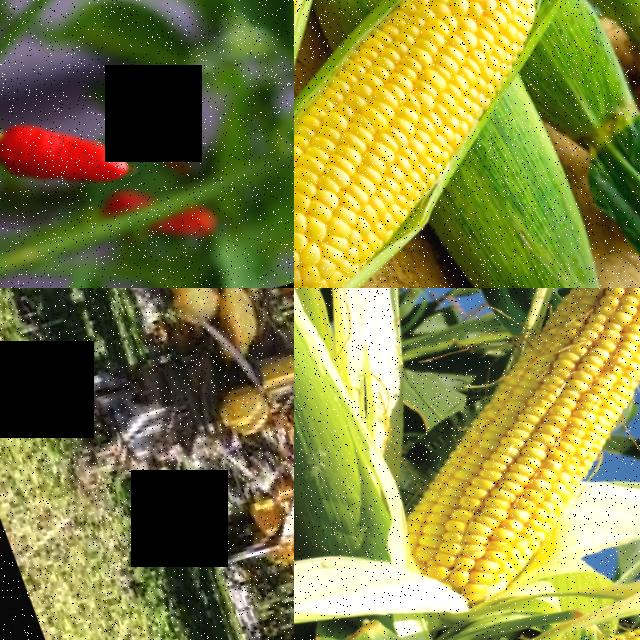chilli: (0, 91, 132, 218)
coconut: (201, 376, 274, 446), (210, 288, 268, 352), (151, 288, 221, 332)
corn: (363, 338, 640, 609), (294, 0, 567, 158), (294, 76, 468, 288), (508, 288, 640, 383)
